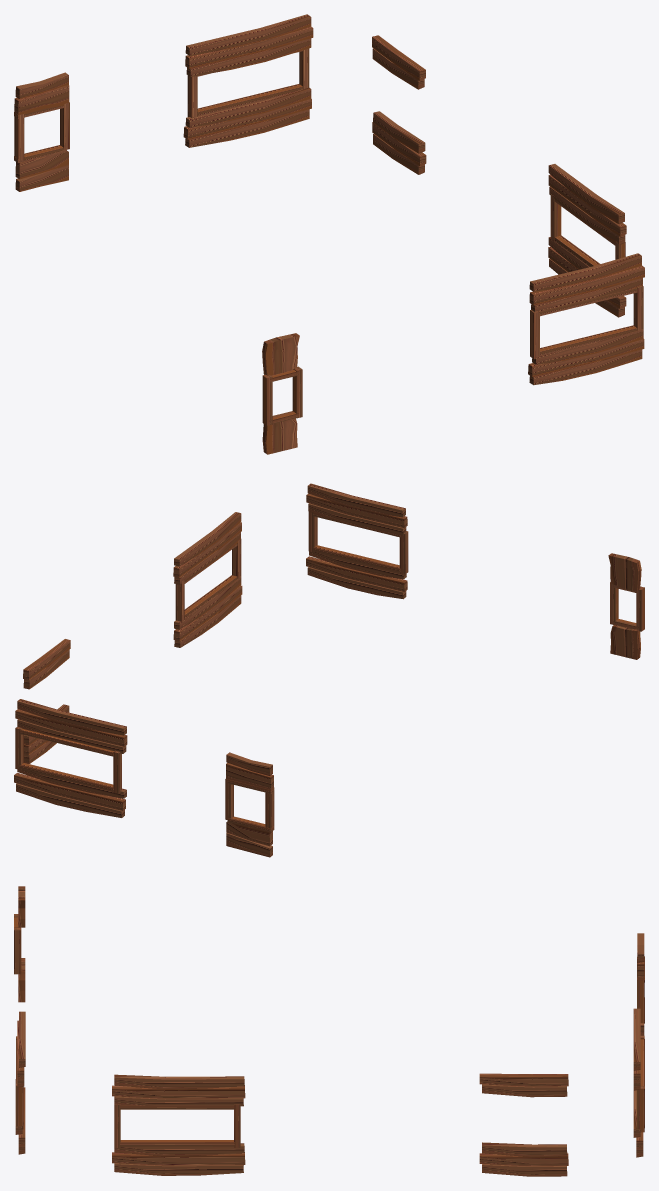
The model's file is MSH_Piso2_Ventanas.FBX.
3 renders of one model, top to bottom at view 1: azimuth 30°, elevation 25°; view 2: azimuth 150°, elevation 25°; view 3: azimuth 270°, elevation 25°, orthographic. The views are drawn at different scales.
Parts seen in each view (by area): view 1: MSH_Piso2_Ventana05, MSH_Piso2_Ventana01, MSH_Piso2_Ventana00, MSH_Piso2_Ventana03, MSH_Piso2_Ventana04, MSH_Piso2_Ventana02; view 2: MSH_Piso2_Ventana05, MSH_Piso2_Ventana01, MSH_Piso2_Ventana00, MSH_Piso2_Ventana03, MSH_Piso2_Ventana04, MSH_Piso2_Ventana02; view 3: MSH_Piso2_Ventana00, MSH_Piso2_Ventana02, MSH_Piso2_Ventana05, MSH_Piso2_Ventana01, MSH_Piso2_Ventana04, MSH_Piso2_Ventana03.
Boxes of the visible parts, x1,y1,x2,y2 form: MSH_Piso2_Ventana05: (183,14,313,147); MSH_Piso2_Ventana01: (528,253,644,385); MSH_Piso2_Ventana00: (548,164,626,317); MSH_Piso2_Ventana03: (14,72,69,191); MSH_Piso2_Ventana04: (262,333,302,454); MSH_Piso2_Ventana02: (372,35,426,174); MSH_Piso2_Ventana05: (14,699,127,817); MSH_Piso2_Ventana01: (306,483,408,599); MSH_Piso2_Ventana00: (173,512,242,647); MSH_Piso2_Ventana03: (225,752,274,857); MSH_Piso2_Ventana04: (608,553,644,659); MSH_Piso2_Ventana02: (23,639,70,763); MSH_Piso2_Ventana00: (112,1074,245,1175); MSH_Piso2_Ventana02: (479,1073,568,1176); MSH_Piso2_Ventana05: (633,1008,644,1157); MSH_Piso2_Ventana01: (15,1011,25,1154); MSH_Piso2_Ventana04: (14,886,25,1002); MSH_Piso2_Ventana03: (637,933,644,1035).
Size of the model in its own units: 562 by 150 by 800.
